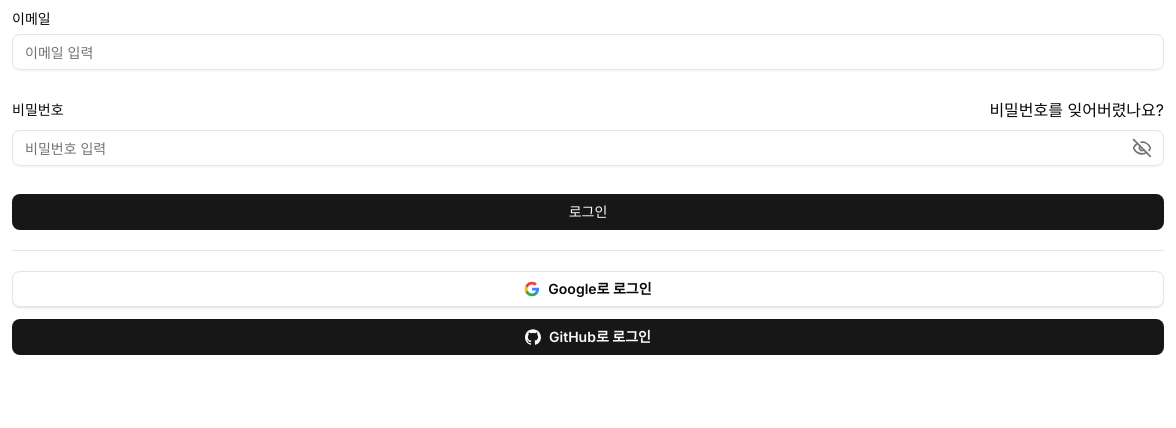
Test: LoginForm › 이메일이 비어있으면 에러 메시지를 표시한다
Click the button "로그인" at (588, 212), box x1=12 y1=194 x2=1164 y2=230
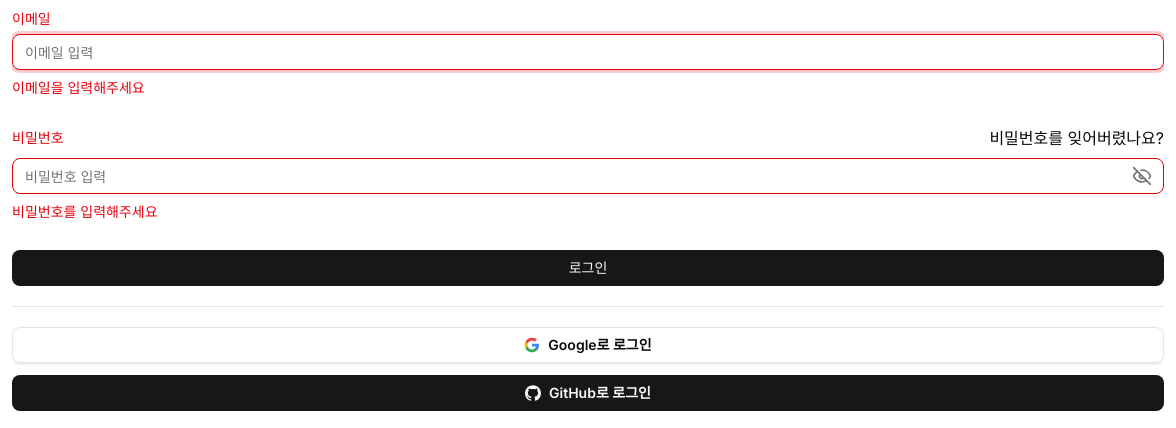
Expected: the text "이메일을 입력해주세요" is shown, x1=12 y1=79 x2=145 y2=96
